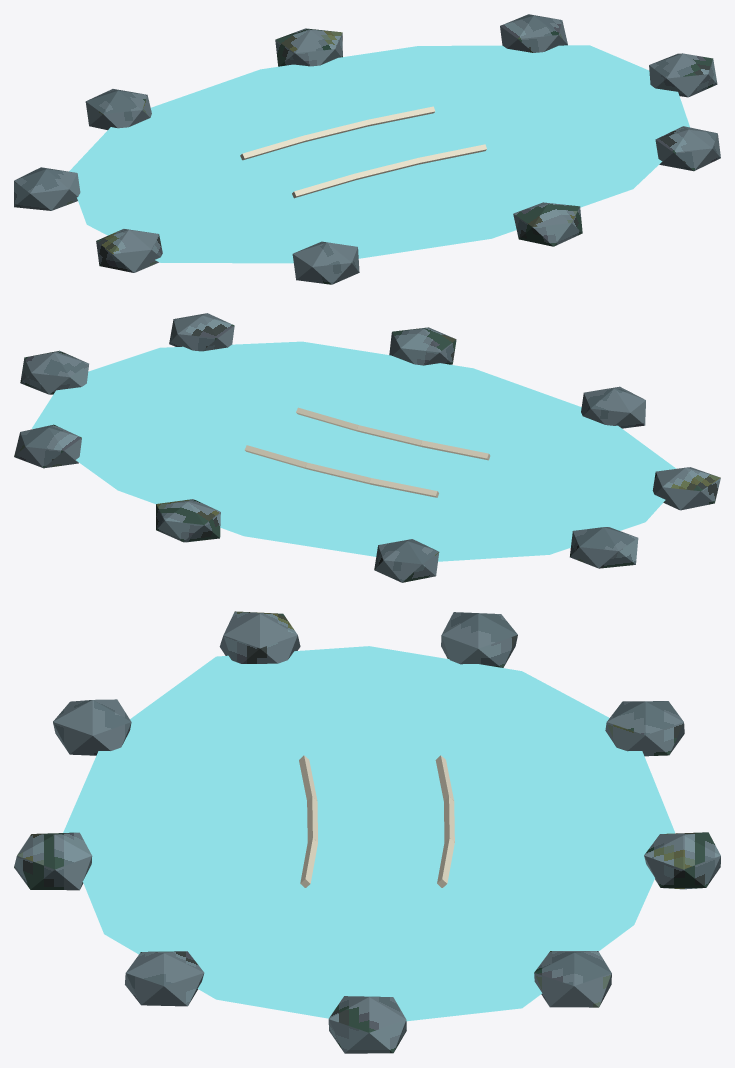
Rendered from enfeite_lago.glb.
The picture shows the model from 3 angles, top to bottom: view 1: azimuth 30°, elevation 25°; view 2: azimuth 150°, elevation 25°; view 3: azimuth 270°, elevation 25°; orthographic projection. The views are drawn at different scales.
Visible parts, largest first — view 1: bosque_enfeite_lago; view 2: bosque_enfeite_lago; view 3: bosque_enfeite_lago.
Boxes of the visible parts, x1,y1,x2,y2 form: bosque_enfeite_lago: (14, 14, 720, 284); bosque_enfeite_lago: (14, 313, 720, 582); bosque_enfeite_lago: (14, 611, 720, 1053).
Bounding box in the file's own units: 1.54 × 0.0951 × 1.09.
3 materials, 1 textured.
